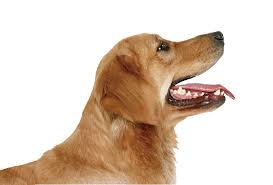dog: (140, 26, 233, 124)
